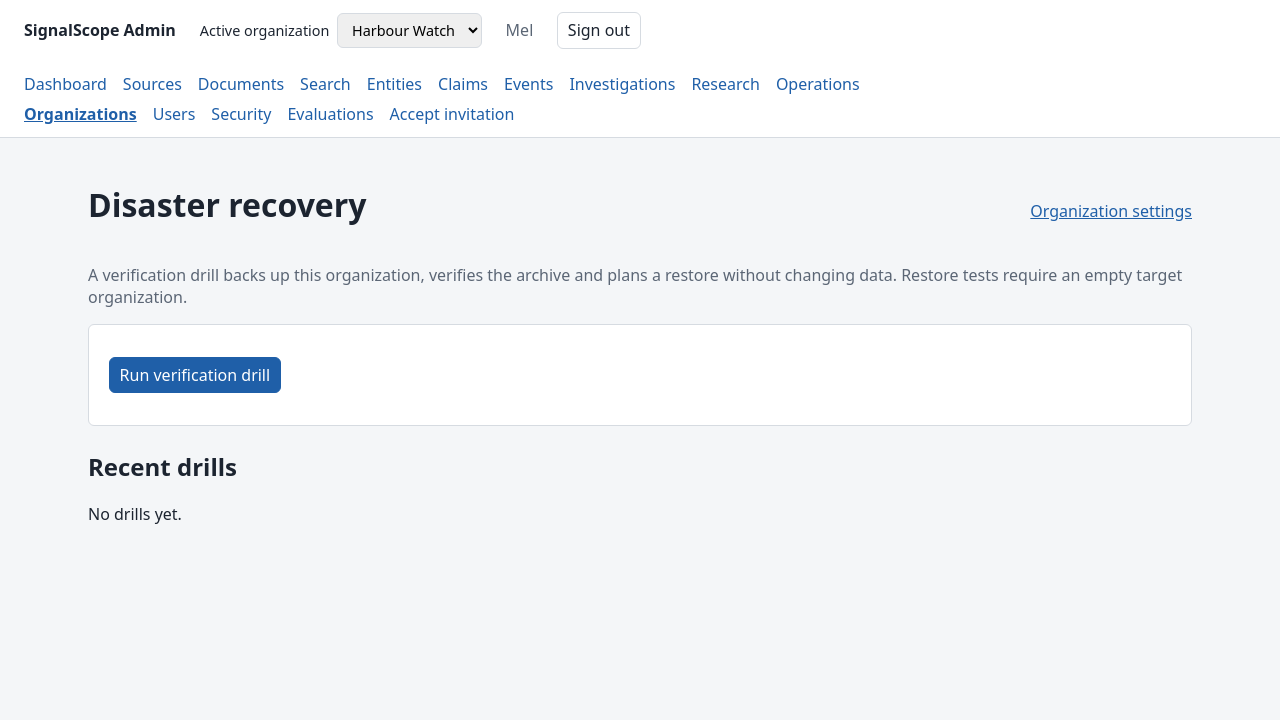
it: organization disaster recovery drills › lists drills and runs a verification drill
This screenshot has width=1280, height=720.
Check: the text "No drills yet." is shown, box [88, 503, 182, 525]
Click the button "Run verification drill" at (195, 375), box [109, 357, 281, 394]
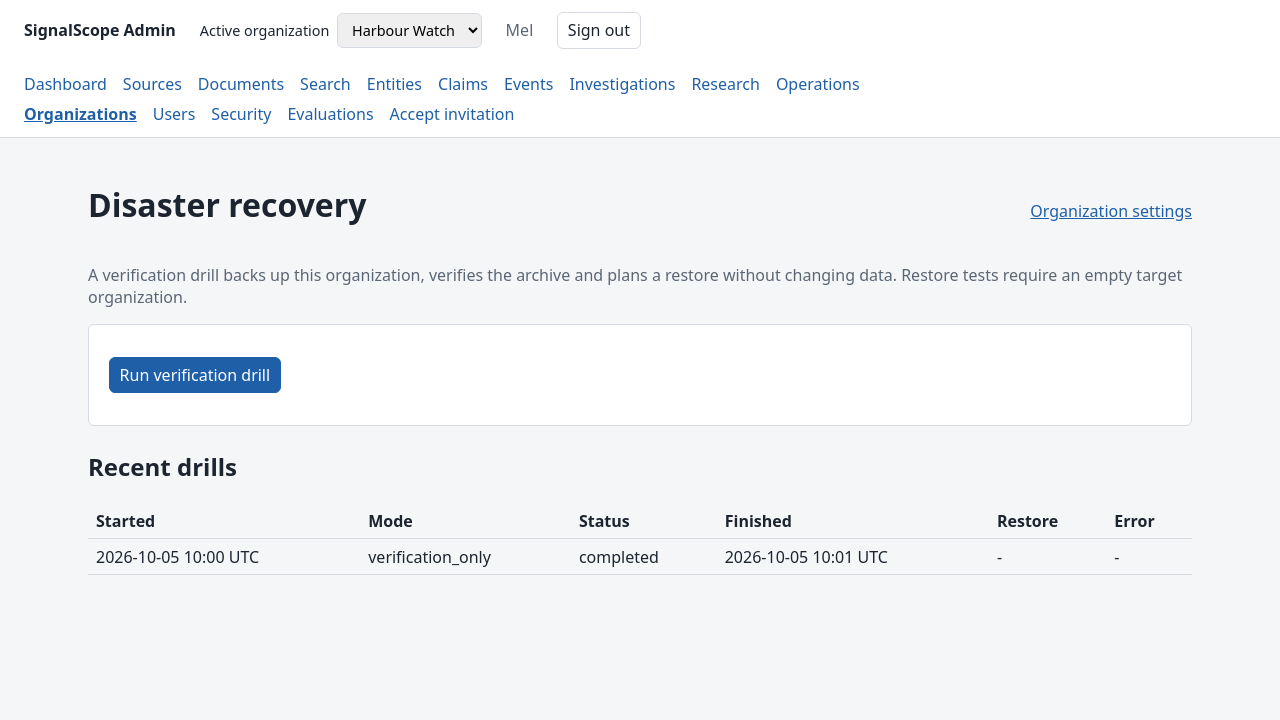
Check: the text "verification_only" is shown, box [360, 539, 571, 574]
Check: the text "completed" is shown, box [571, 539, 717, 574]
